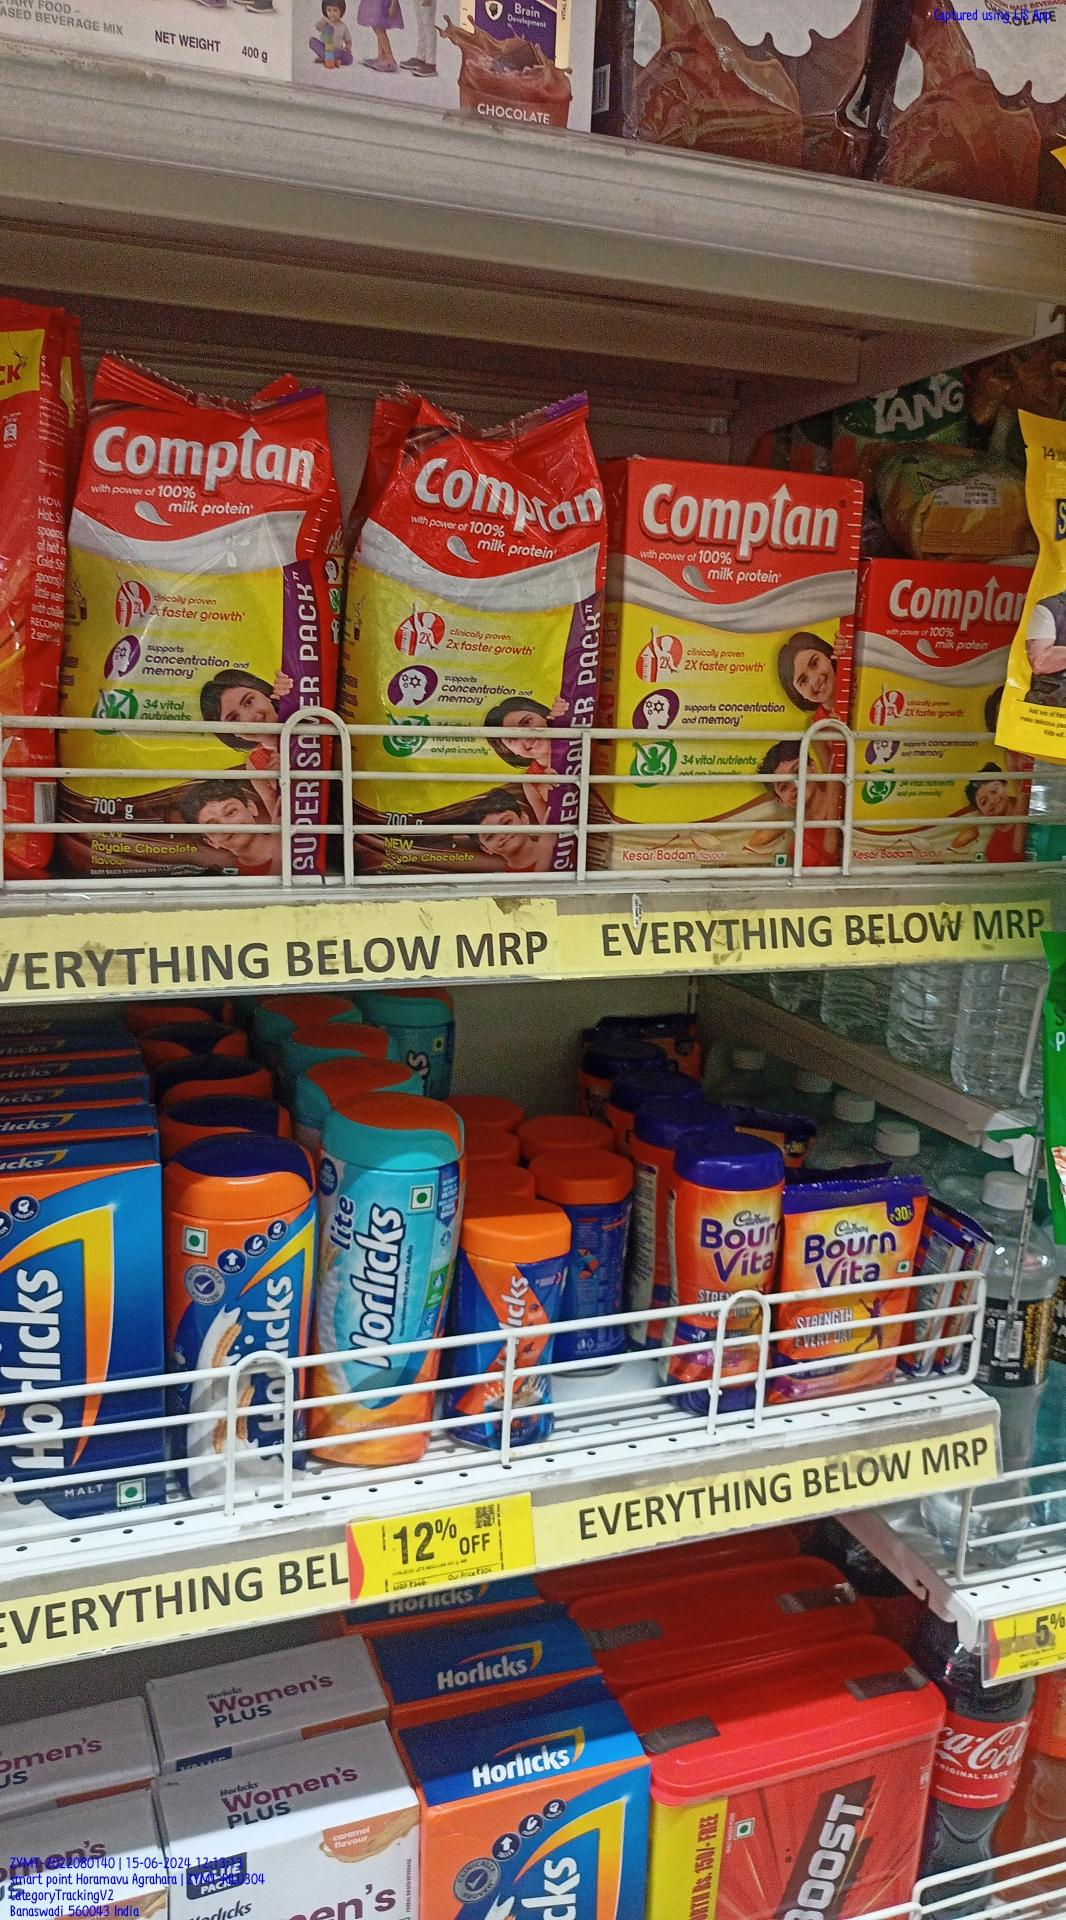BOURN_VITA_200_G_JAR: (664, 1147, 777, 1407)
BOURN_VITA_75_G_POUCH: (782, 1188, 915, 1400)
COMPLAN_KESAR_BADAM_200_GMS_PACK: (859, 563, 1034, 864)
COMPLAN_KESAR_BADAM_500_GMS_PACK: (618, 455, 847, 871)
COMPLAN_RC_POUCH_700_GMS_12: (70, 343, 340, 875), (357, 383, 591, 874)
HORLICK_CLASSIC_MALT_200_G_JAR: (453, 1217, 561, 1446)
HORLICK_CLASSIC_MALT_500_G_JAR: (171, 1159, 314, 1487)
